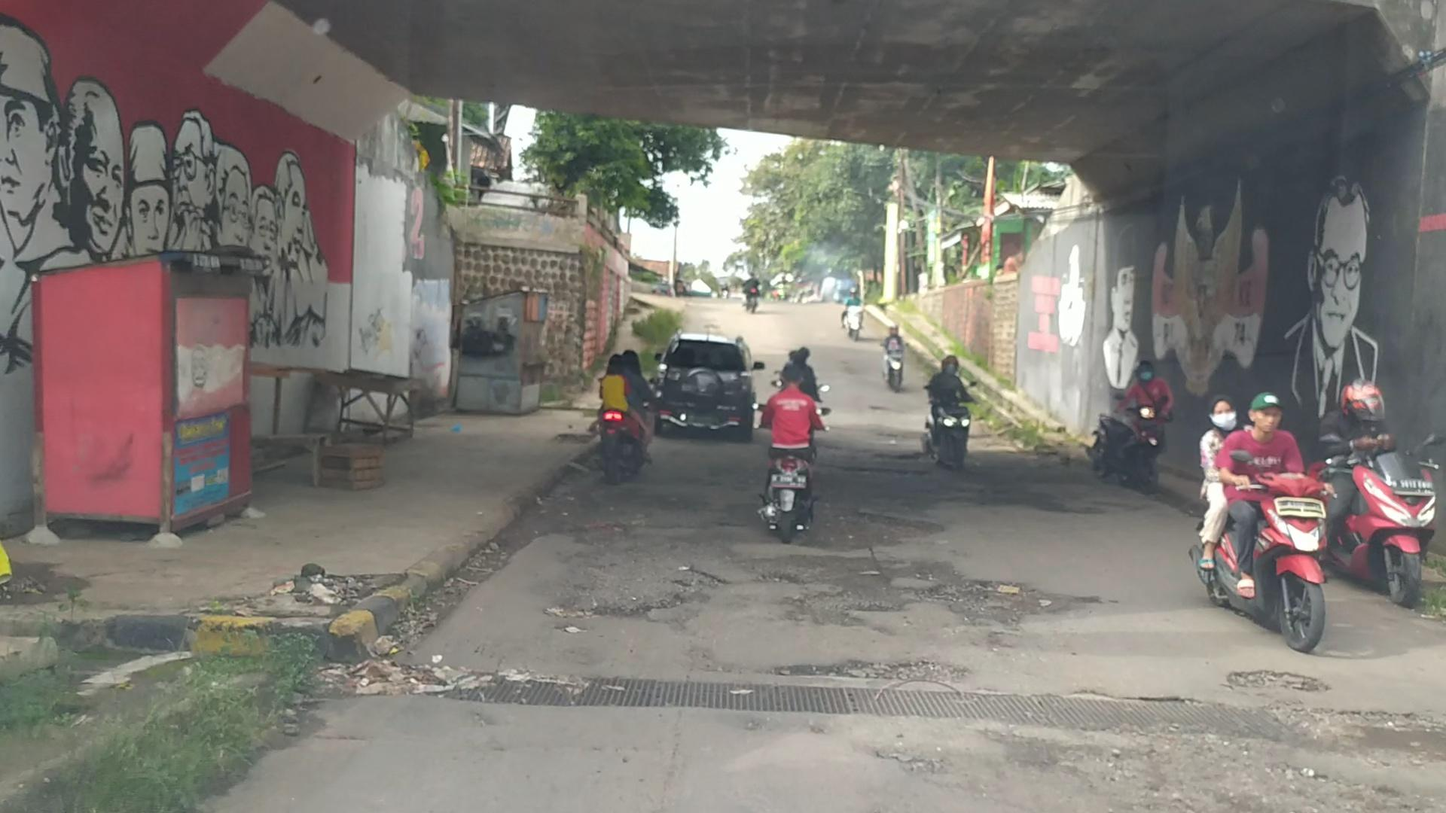pothole: (731, 552, 923, 628), (924, 571, 1100, 634), (759, 658, 965, 681), (588, 587, 691, 617), (1225, 668, 1331, 695)
